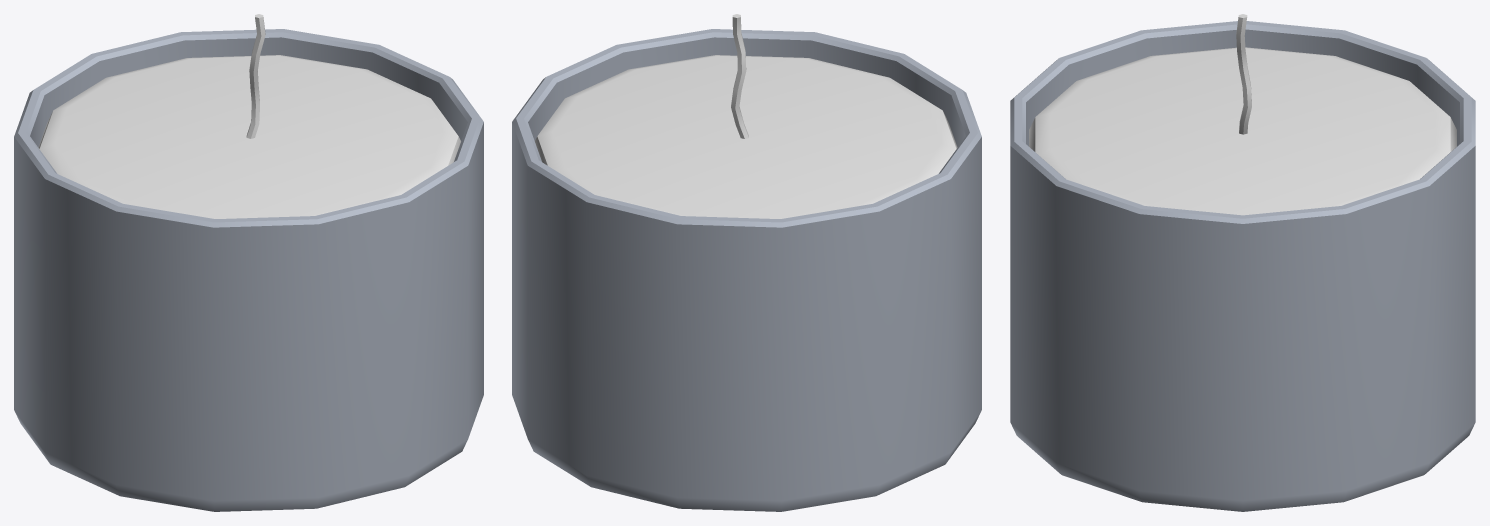
Rendered from Teelicht.fbx.
The picture shows the model from 3 angles, left to right: view 1: azimuth 30°, elevation 25°; view 2: azimuth 150°, elevation 25°; view 3: azimuth 270°, elevation 25°; orthographic projection.
Parts seen in each view (by area): view 1: Teelicht; view 2: Teelicht; view 3: Teelicht.
Boxes of the visible parts, x1,y1,x2,y2 form: Teelicht: [14, 14, 483, 511]; Teelicht: [512, 14, 981, 511]; Teelicht: [1010, 14, 1475, 511].
Bounding box in the file's own units: 19.2 × 18.14 × 18.72.
